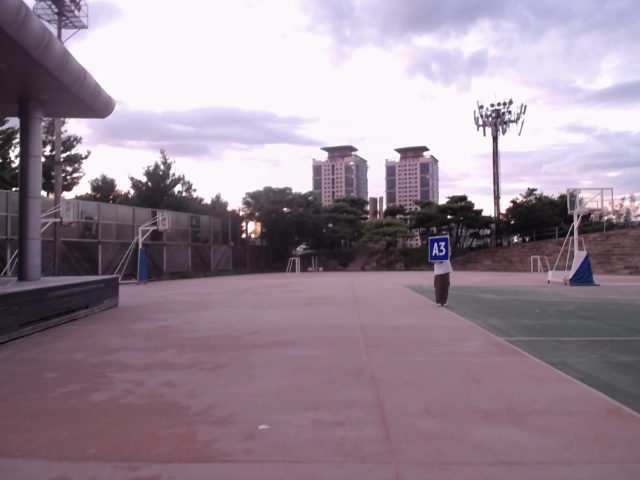delivery_a3: (428, 237, 449, 260)
